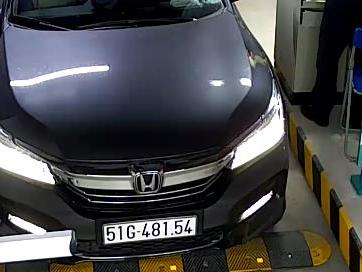number: (103, 217, 197, 244)
